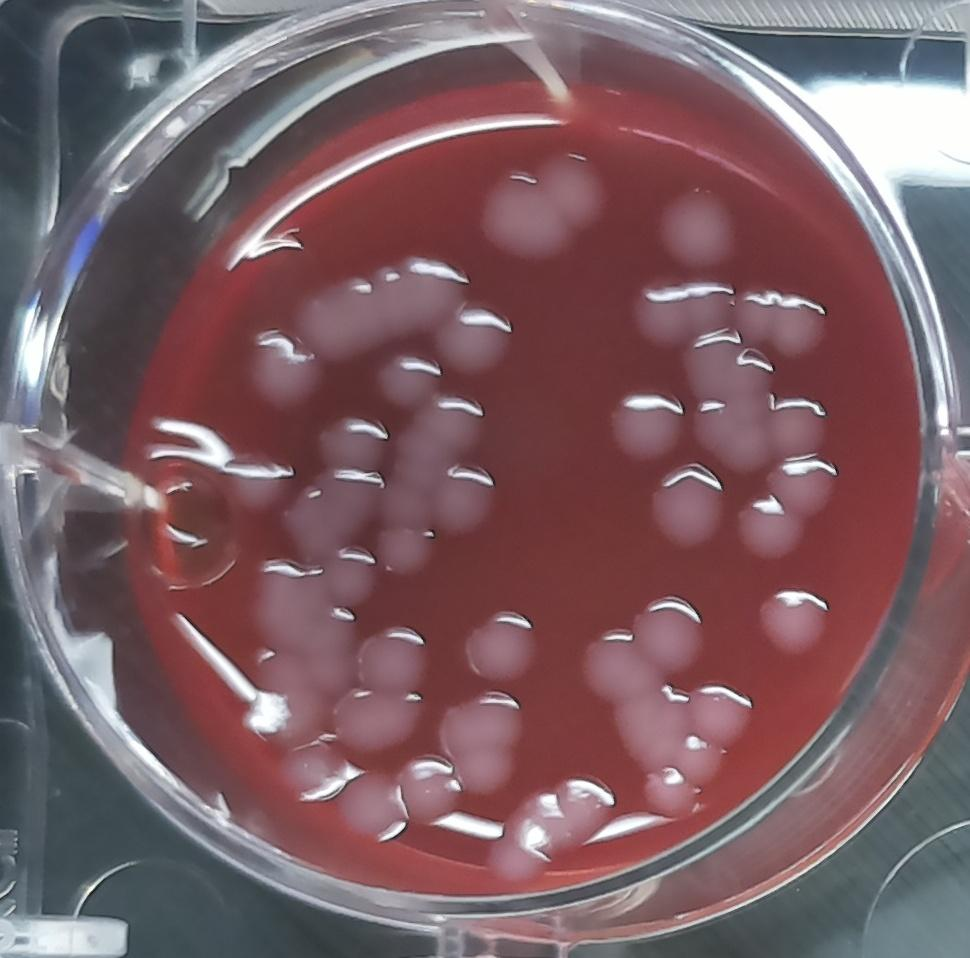valgino: (252, 545, 373, 756), (381, 386, 485, 579), (302, 247, 473, 363), (476, 135, 614, 266), (493, 768, 617, 884), (682, 337, 780, 472), (434, 690, 527, 800), (647, 185, 742, 277), (737, 279, 837, 363), (629, 278, 735, 355), (282, 470, 380, 551), (330, 680, 428, 760), (606, 379, 691, 468), (644, 459, 725, 551), (241, 318, 320, 411), (330, 765, 414, 851), (577, 625, 663, 706), (627, 593, 709, 677), (462, 604, 538, 687), (753, 583, 832, 661), (681, 680, 767, 751), (438, 303, 516, 381), (358, 617, 431, 694), (430, 464, 502, 541), (767, 454, 846, 523), (396, 753, 464, 833), (767, 390, 834, 463), (369, 346, 439, 411), (314, 412, 386, 470), (638, 763, 705, 824)
